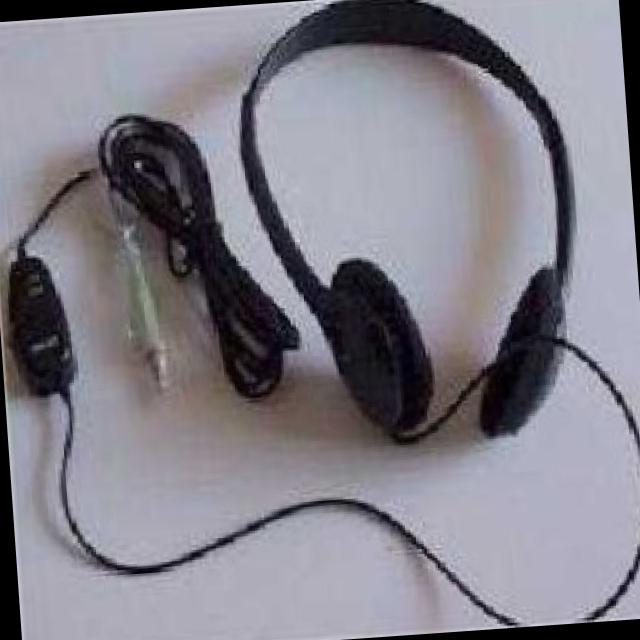kulaklik: (228, 0, 640, 496)
